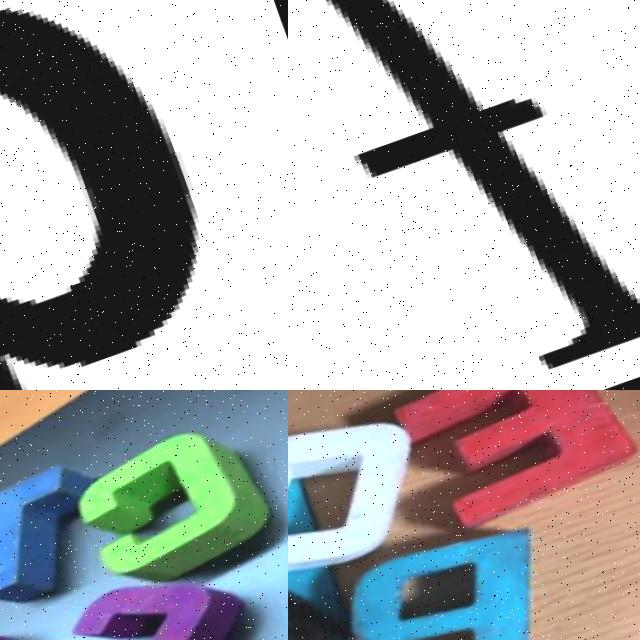C: (59, 415, 281, 608)
E: (387, 390, 640, 537)
F: (317, 0, 640, 374)
G: (0, 545, 282, 640)
P: (321, 510, 574, 640)
Q: (0, 0, 288, 390), (288, 394, 444, 614)
T: (0, 443, 146, 628)
